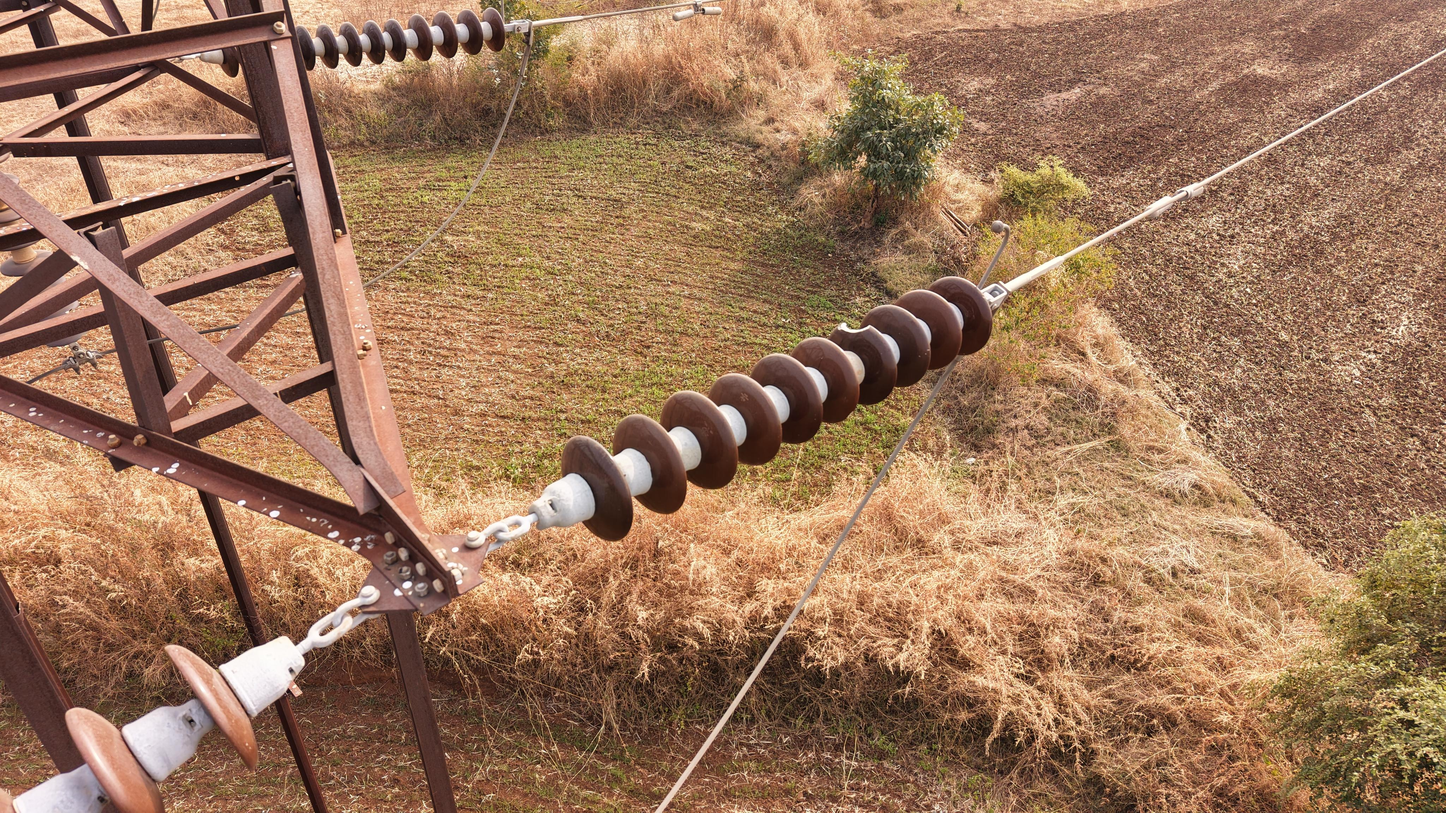broken_insulator: (823, 314, 886, 358)
